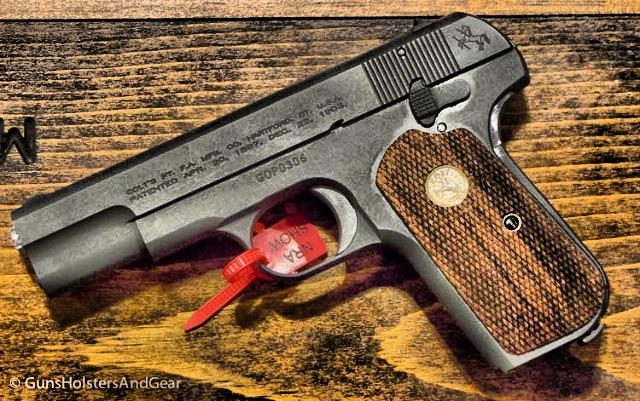pistol: (8, 15, 610, 370)
